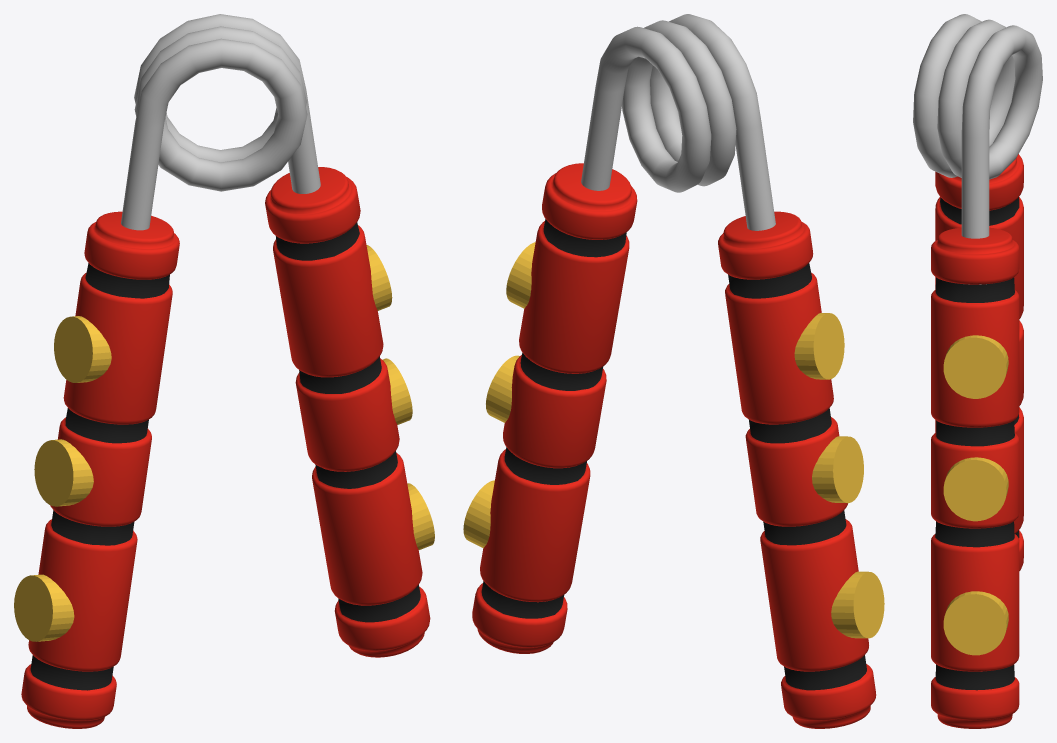
File: realgripper.glb
The picture shows the model from 3 angles, left to right: view 1: azimuth 30°, elevation 25°; view 2: azimuth 150°, elevation 25°; view 3: azimuth 270°, elevation 25°; orthographic projection. The views are drawn at different scales.
Visible parts, largest first — view 1: hand no use, main handle, Spring, Cylinder.002, Cylinder.001, Cylinder, Cylinder.005, Cylinder.004, Cylinder.003; view 2: hand no use, main handle, Spring, Cylinder.002, Cylinder.001, Cylinder, Cylinder.005, Cylinder.004, Cylinder.003; view 3: hand no use, Spring, main handle, Cylinder.005, Cylinder.004, Cylinder.003.
Part boxes in pixels (bbox=[...]): hand no use: bbox=[265, 167, 430, 657]; main handle: bbox=[21, 211, 179, 728]; Spring: bbox=[121, 14, 320, 230]; Cylinder.002: bbox=[14, 574, 74, 641]; Cylinder.001: bbox=[34, 439, 93, 506]; Cylinder: bbox=[54, 316, 111, 382]; Cylinder.005: bbox=[407, 483, 434, 549]; Cylinder.004: bbox=[382, 358, 412, 424]; Cylinder.003: bbox=[366, 245, 392, 310]; hand no use: bbox=[472, 163, 637, 653]; main handle: bbox=[718, 211, 876, 728]; Spring: bbox=[581, 14, 775, 230]; Cylinder.002: bbox=[831, 571, 884, 638]; Cylinder.001: bbox=[812, 436, 863, 503]; Cylinder: bbox=[794, 313, 844, 379]; Cylinder.005: bbox=[463, 480, 494, 547]; Cylinder.004: bbox=[486, 355, 519, 422]; Cylinder.003: bbox=[506, 242, 535, 308]; hand no use: bbox=[931, 227, 1019, 728]; Spring: bbox=[913, 14, 1042, 284]; main handle: bbox=[935, 154, 1023, 570]; Cylinder.005: bbox=[943, 591, 1008, 655]; Cylinder.004: bbox=[943, 457, 1008, 521]; Cylinder.003: bbox=[943, 335, 1008, 398].
Bounding box in the file's own units: 0.6173 × 0.9731 × 0.184.
